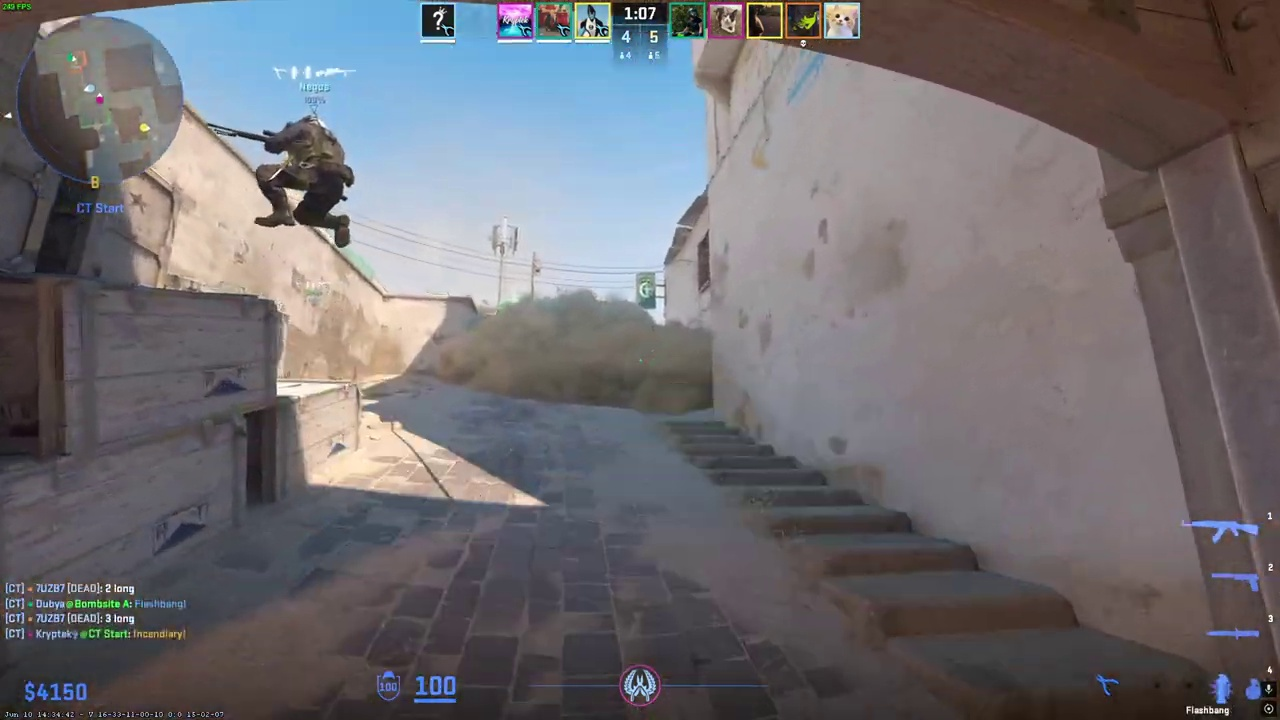CT: (253, 112, 357, 247)
